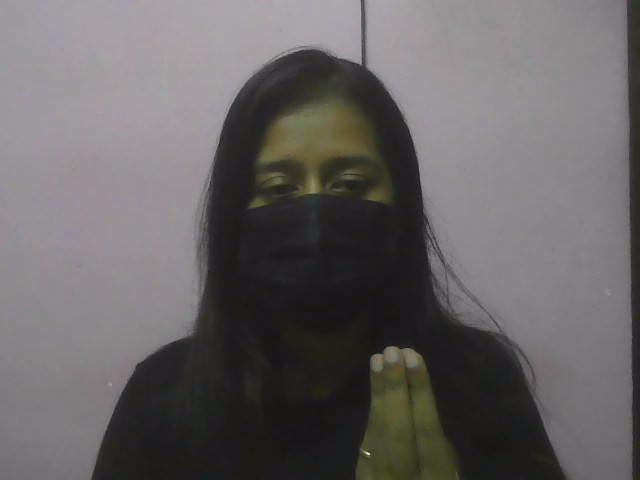Morning: (333, 318, 511, 479)
